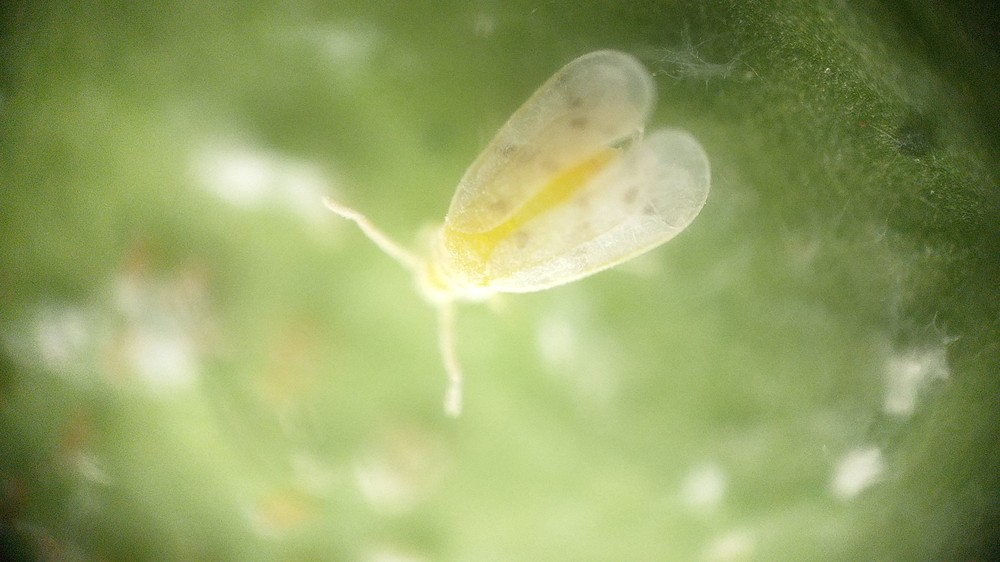Mosca Blanca: (309, 48, 720, 431)
